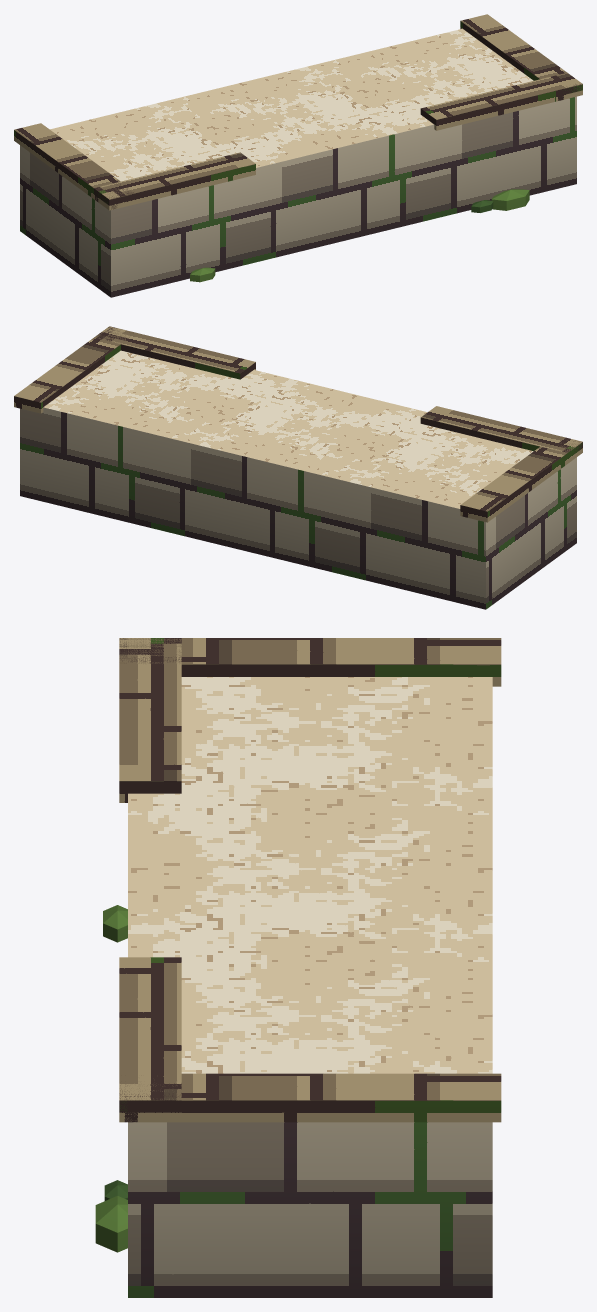
File: scene_plat_f8.glb
3 views of the same model, one above another, from view 1: azimuth 30°, elevation 25°; view 2: azimuth 150°, elevation 25°; view 3: azimuth 270°, elevation 25° (orthographic). The views are drawn at different scales.
Visible parts, largest first — view 1: scene_plat_f8; view 2: scene_plat_f8; view 3: scene_plat_f8.
Boxes of the visible parts, bbox=[...] form: scene_plat_f8: bbox=[14, 14, 582, 297]; scene_plat_f8: bbox=[14, 326, 582, 609]; scene_plat_f8: bbox=[95, 638, 501, 1297].
Bounding box in the file's own units: 6.3 × 1.37 × 2.34.
3 materials, 2 textured.
